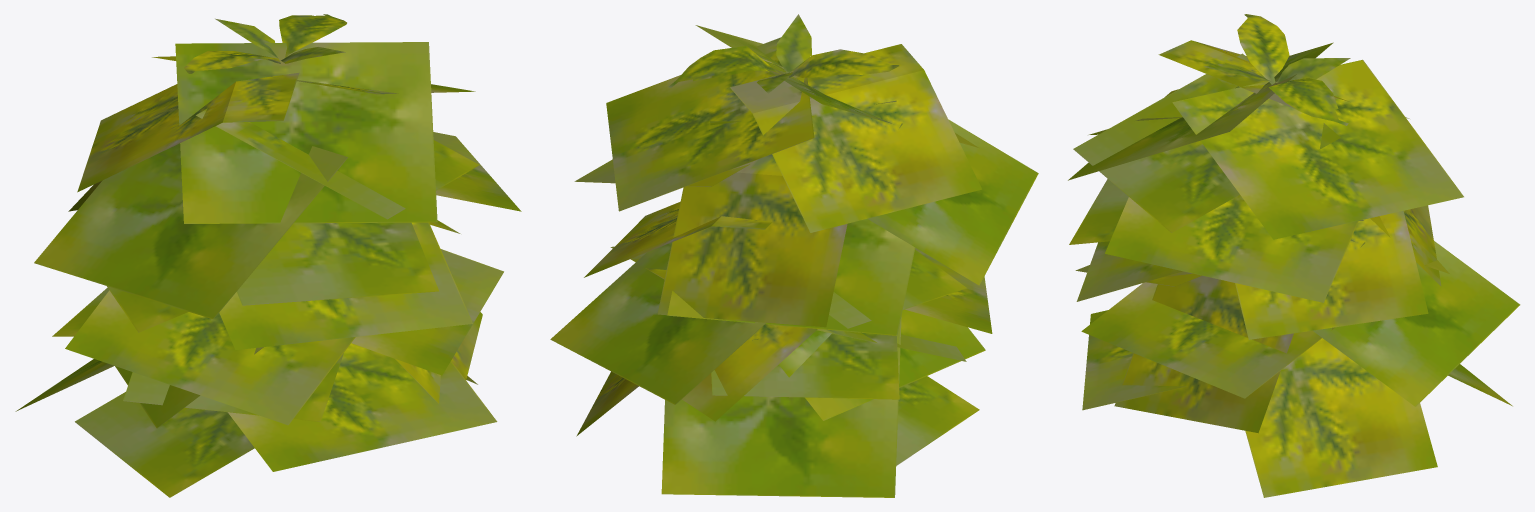
Rendered from sm10_019_herbfield01a.fbx.
3 renders of one model, left to right at view 1: azimuth 30°, elevation 25°; view 2: azimuth 150°, elevation 25°; view 3: azimuth 270°, elevation 25°, orthographic. The views are drawn at different scales.
Parts seen in each view (by area): view 1: LOD_1_Group_0_Sub_1__sm10_019_HerbField01A_A_Mat__Env_RainLe; view 2: LOD_1_Group_0_Sub_1__sm10_019_HerbField01A_A_Mat__Env_RainLe; view 3: LOD_1_Group_0_Sub_1__sm10_019_HerbField01A_A_Mat__Env_RainLe.
Part boxes in pixels (x1,y1,x2,y2): LOD_1_Group_0_Sub_1__sm10_019_HerbField01A_A_Mat__Env_RainLe: (15, 14, 521, 497); LOD_1_Group_0_Sub_1__sm10_019_HerbField01A_A_Mat__Env_RainLe: (550, 14, 1038, 497); LOD_1_Group_0_Sub_1__sm10_019_HerbField01A_A_Mat__Env_RainLe: (1068, 14, 1520, 497).
Size of the model in its own units: 0.5831 by 0.509 by 0.5837.
